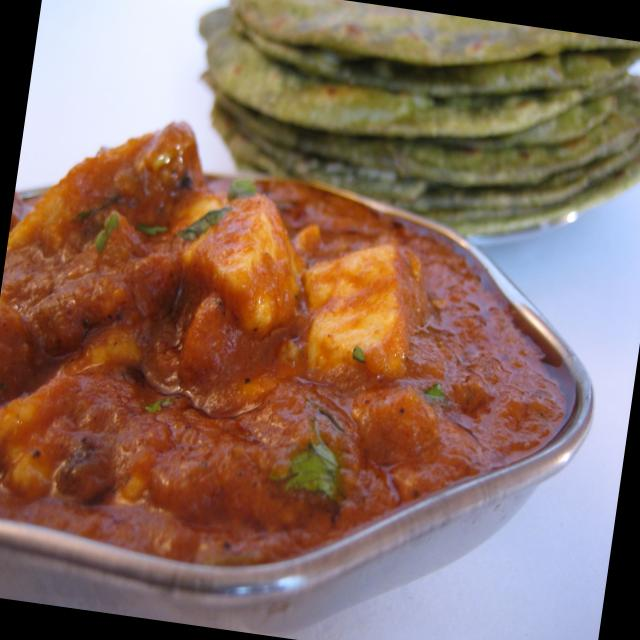ShahiPaneer: (0, 98, 594, 639)
